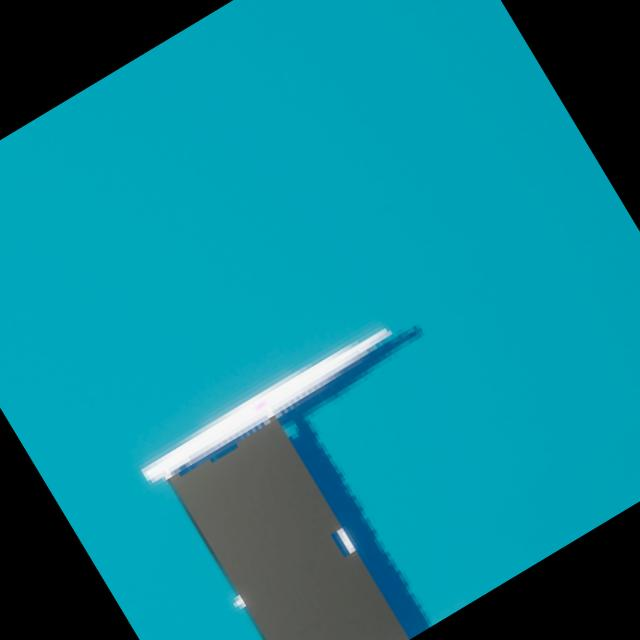boat: (118, 287, 552, 640)
drone: (171, 416, 412, 640)
